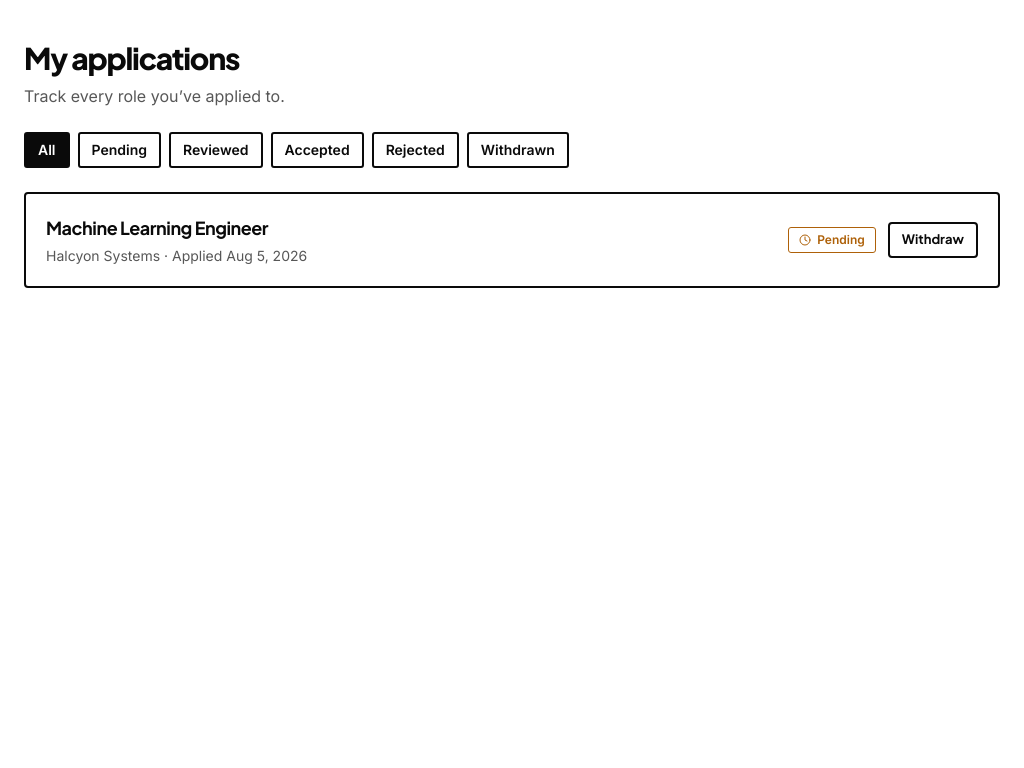
Scenario: SeekerApplications › shows an error toast when the withdraw request fails
Step 1. Click the button "Withdraw" → (933, 240), box left=888, top=222, right=978, bottom=258
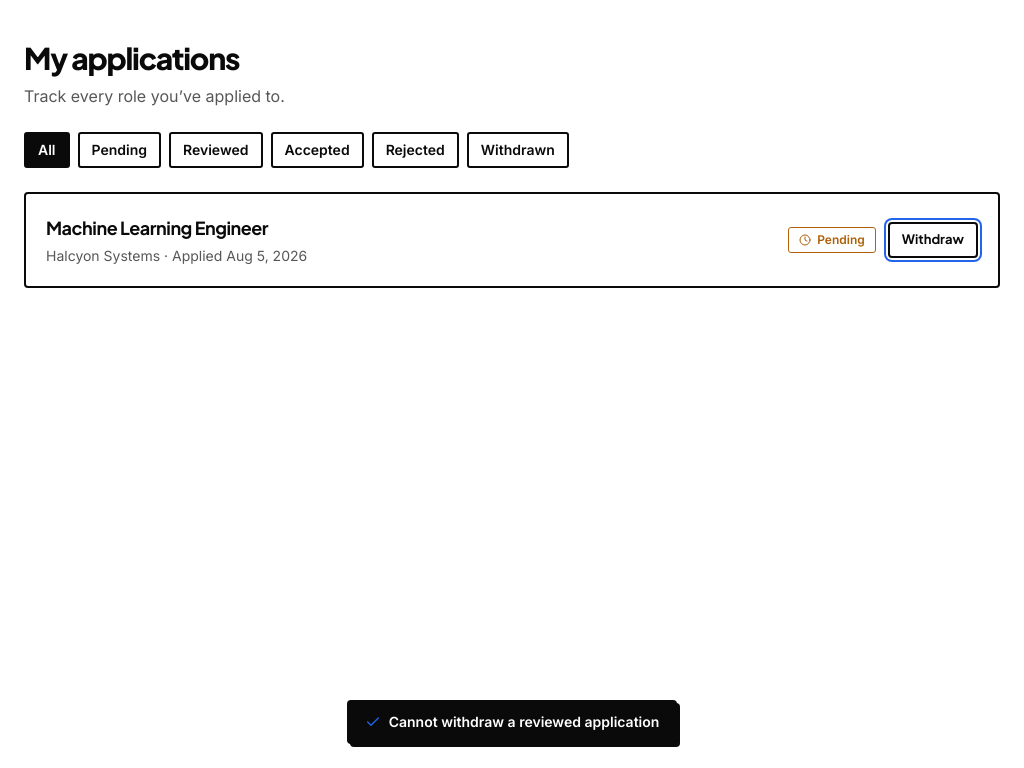
Now the text "Cannot withdraw a reviewed application" is shown, box left=347, top=700, right=677, bottom=744
